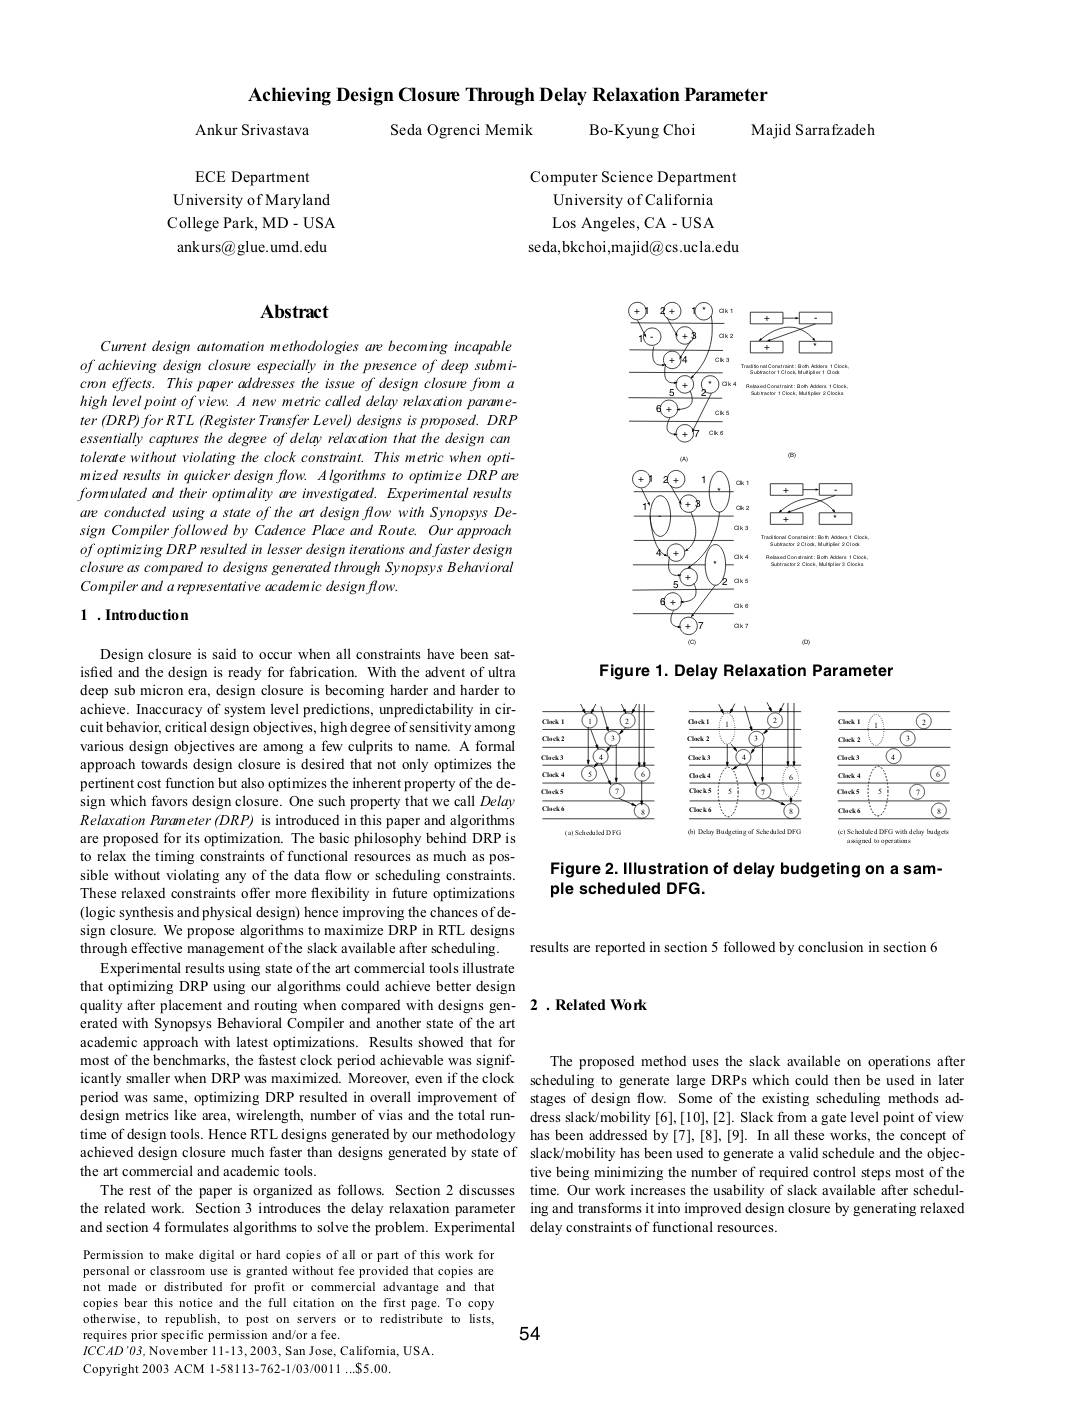figure: (632, 468, 868, 635), (628, 300, 848, 443), (688, 702, 801, 819), (541, 704, 654, 819), (837, 711, 951, 819)
